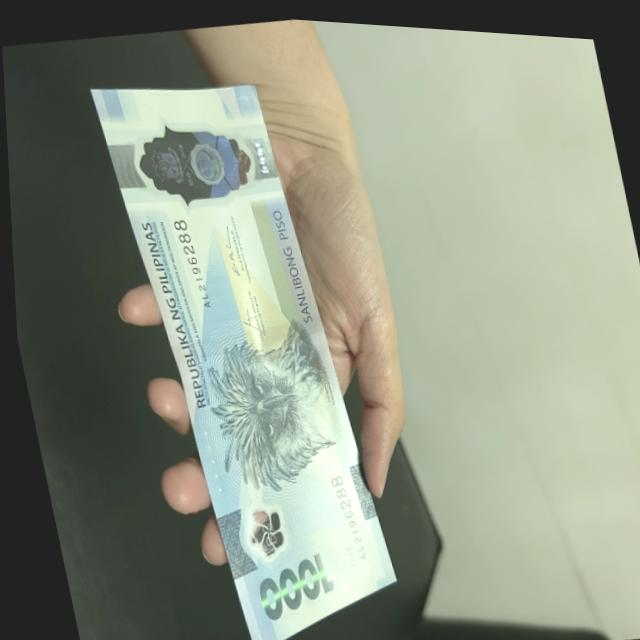clear_window: (126, 103, 262, 217)
eagle: (196, 311, 338, 490)
sampaguita: (237, 494, 288, 559)
